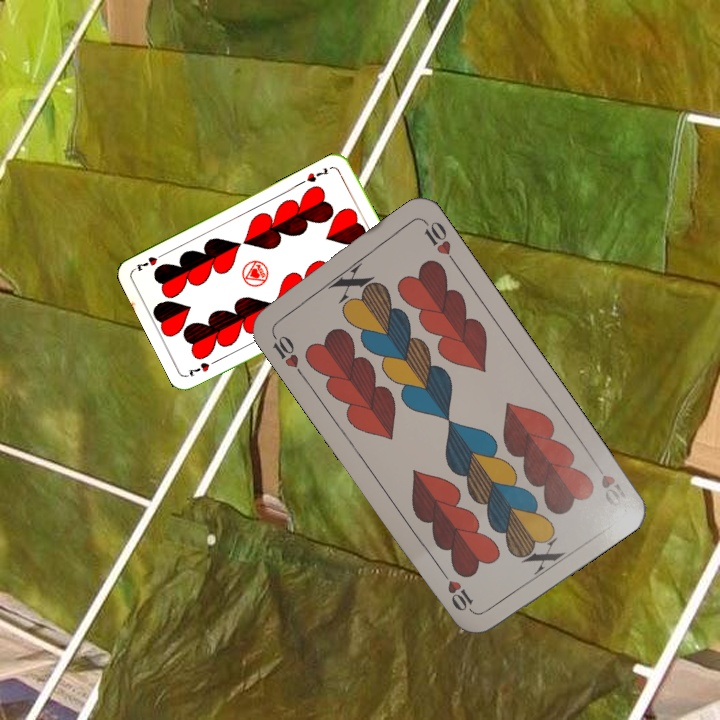H10: (267, 326, 305, 379), (596, 471, 623, 510)
H7: (184, 355, 222, 379), (297, 163, 332, 186)
